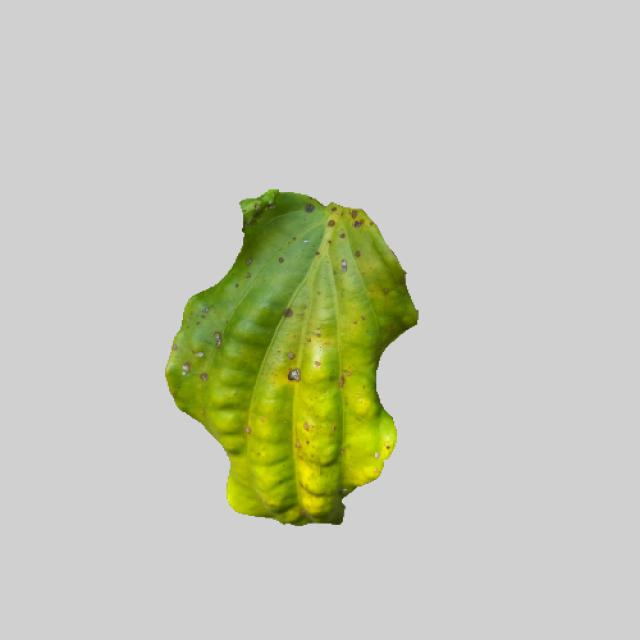yellow-mottle-virus: (153, 191, 414, 521)
